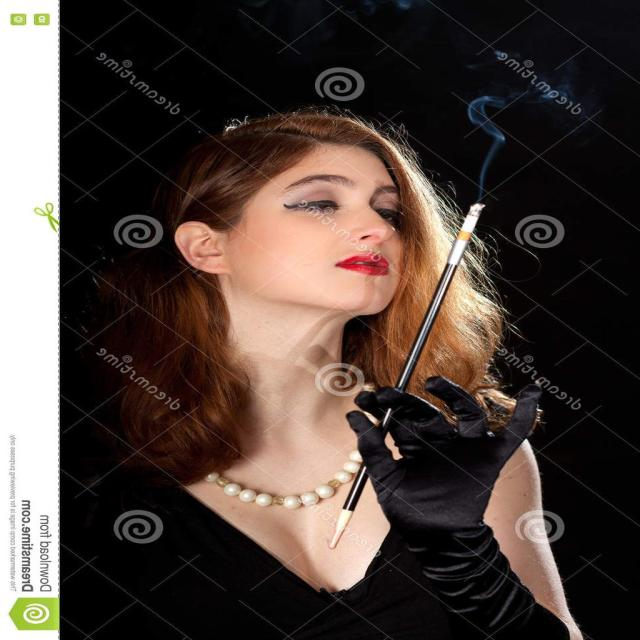smoking: (178, 130, 544, 558)
